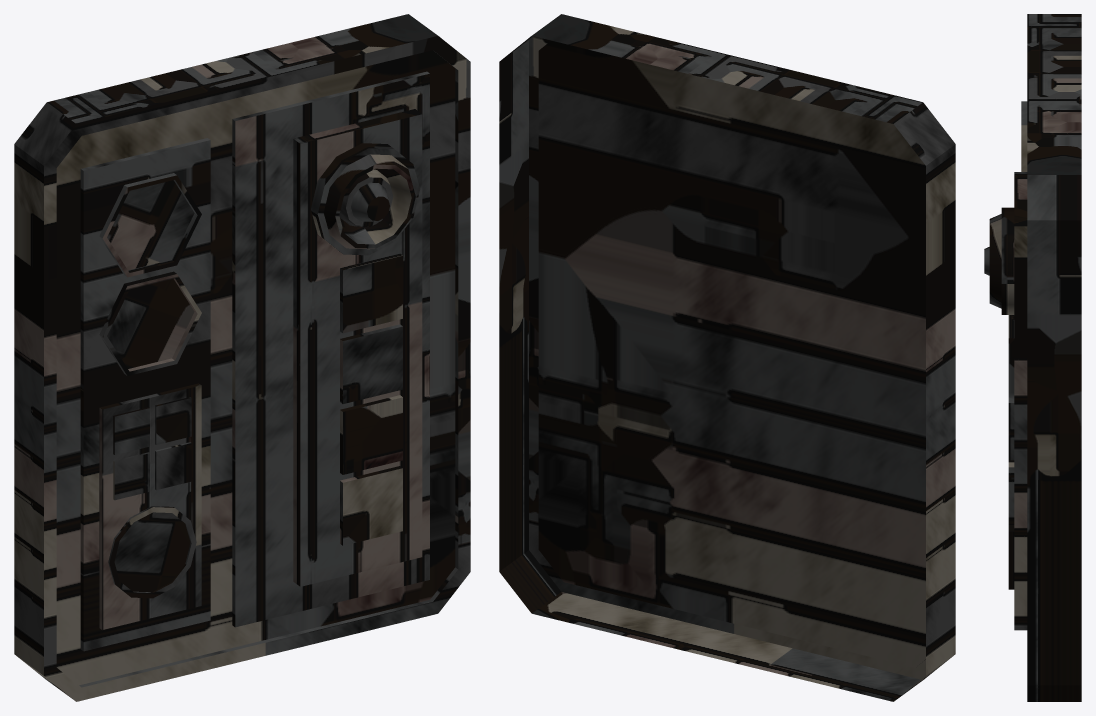
Rendered from wall_control_panel.dae.
3 views of the same model, side by side, from view 1: azimuth 30°, elevation 25°; view 2: azimuth 150°, elevation 25°; view 3: azimuth 270°, elevation 25° (orthographic). The views are drawn at different scales.
Visible parts, largest first — view 1: Control Panel; view 2: Control Panel; view 3: Control Panel.
Part boxes in pixels (bbox=[...]): Control Panel: bbox=[14, 14, 470, 701]; Control Panel: bbox=[499, 14, 955, 701]; Control Panel: bbox=[984, 14, 1081, 701].
Bounding box in the file's own units: 17 × 3.69 × 22.
